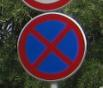No Parking: (18, 14, 88, 82)
